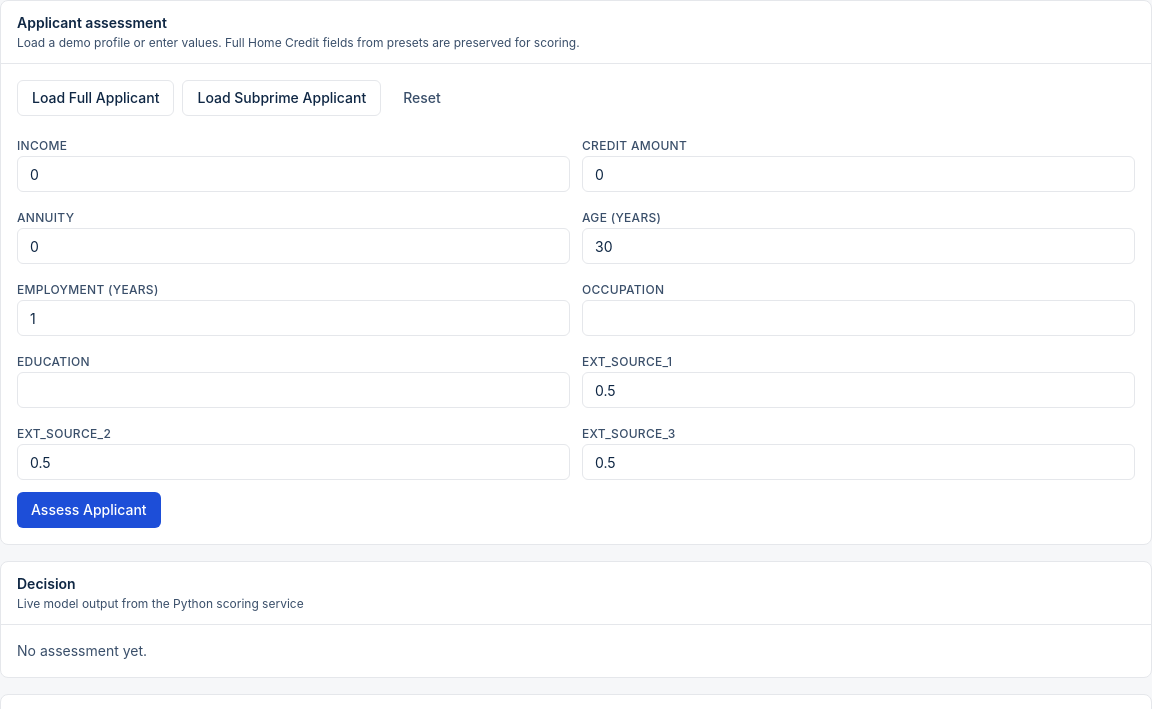
Test case: UnderwritingPage › loads full applicant preset into the form
Click the button "Load Full Applicant" at (96,98), box x1=17 y1=80 x2=174 y2=116
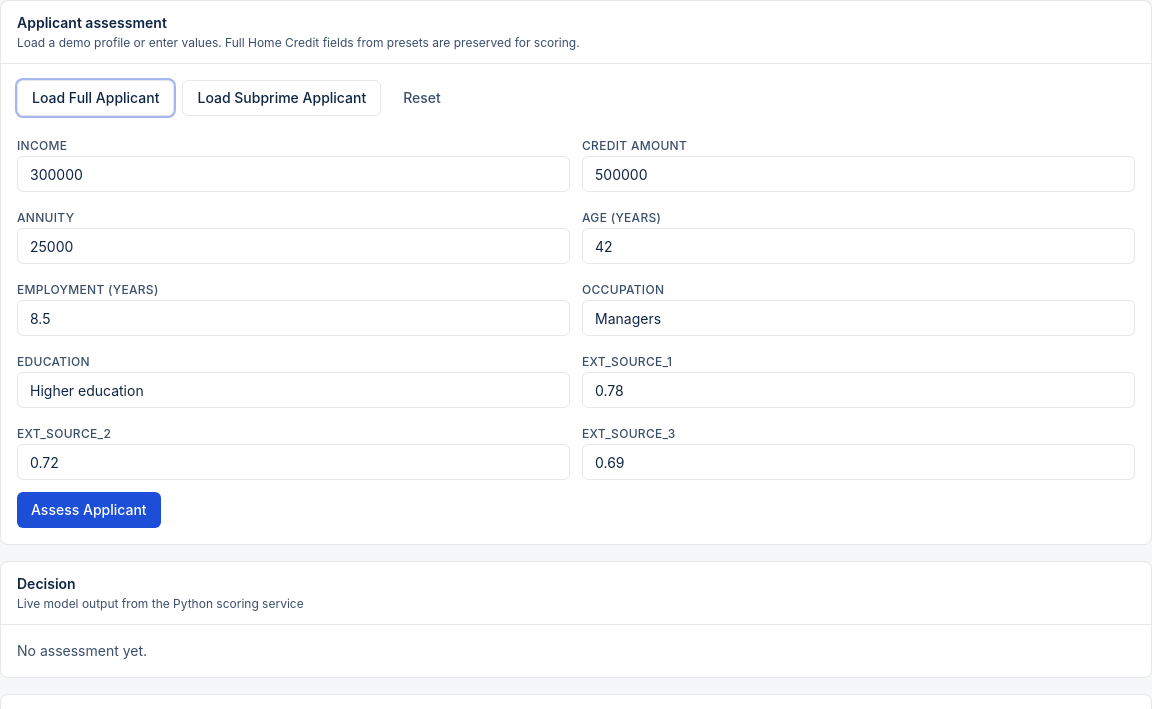
Expected: the field labelled "Income" holds "300000", x1=17 y1=156 x2=570 y2=192
Expected: the field labelled "Occupation" holds "Managers", x1=582 y1=300 x2=1135 y2=336
